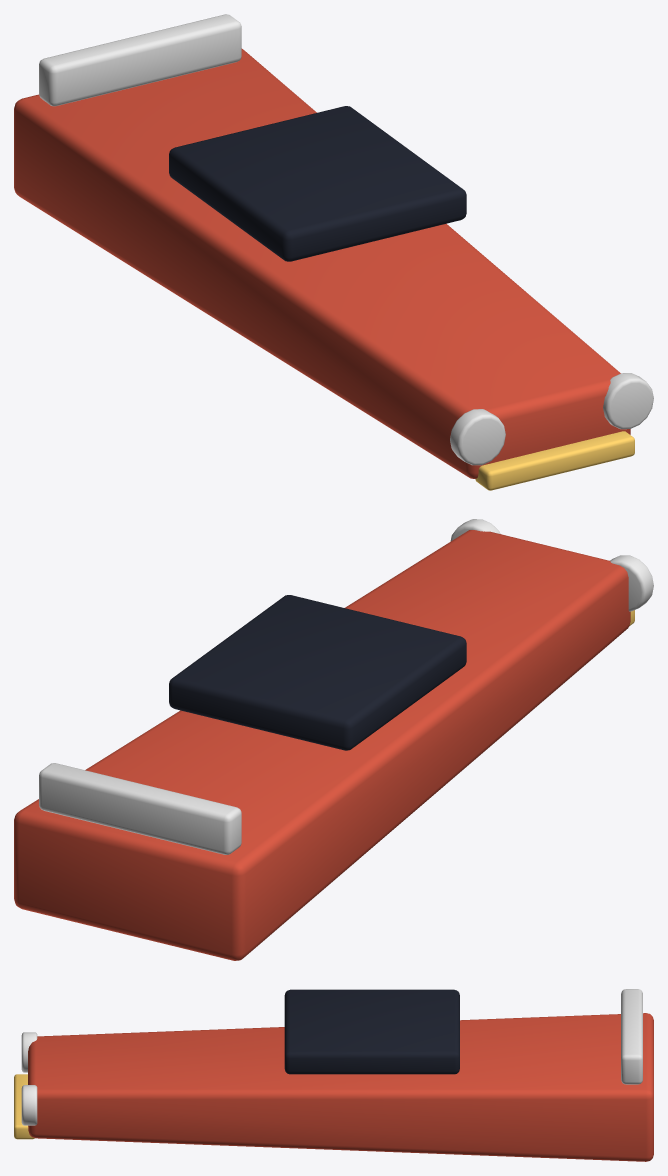
Rendered from vehicle.glb.
3 views of the same model, one above another, from view 1: azimuth 30°, elevation 25°; view 2: azimuth 150°, elevation 25°; view 3: azimuth 270°, elevation 25° (orthographic). The views are drawn at different scales.
Parts seen in each view (by area): view 1: vehicle_hull, vehicle_cabin, vehicle_spoiler, vehicle_nose_accent, vehicle_lamp_l, vehicle_lamp_r; view 2: vehicle_hull, vehicle_cabin, vehicle_spoiler, vehicle_lamp_l; view 3: vehicle_hull, vehicle_cabin, vehicle_spoiler, vehicle_nose_accent, vehicle_lamp_r, vehicle_lamp_l.
Boxes of the visible parts, x1,y1,x2,y2 form: vehicle_hull: [14, 48, 630, 478]; vehicle_cabin: [169, 106, 466, 261]; vehicle_spoiler: [39, 14, 241, 106]; vehicle_nose_accent: [475, 431, 634, 490]; vehicle_lamp_l: [450, 409, 505, 465]; vehicle_lamp_r: [603, 373, 653, 429]; vehicle_hull: [14, 530, 630, 960]; vehicle_cabin: [169, 595, 466, 750]; vehicle_spoiler: [39, 763, 241, 854]; vehicle_lamp_l: [610, 555, 653, 611]; vehicle_hull: [28, 1013, 653, 1161]; vehicle_cabin: [284, 989, 459, 1074]; vehicle_spoiler: [621, 989, 642, 1084]; vehicle_nose_accent: [14, 1074, 34, 1139]; vehicle_lamp_r: [21, 1085, 37, 1125]; vehicle_lamp_l: [21, 1032, 37, 1072].
Size of the model in its own units: 1.24 by 0.7231 by 4.09.
